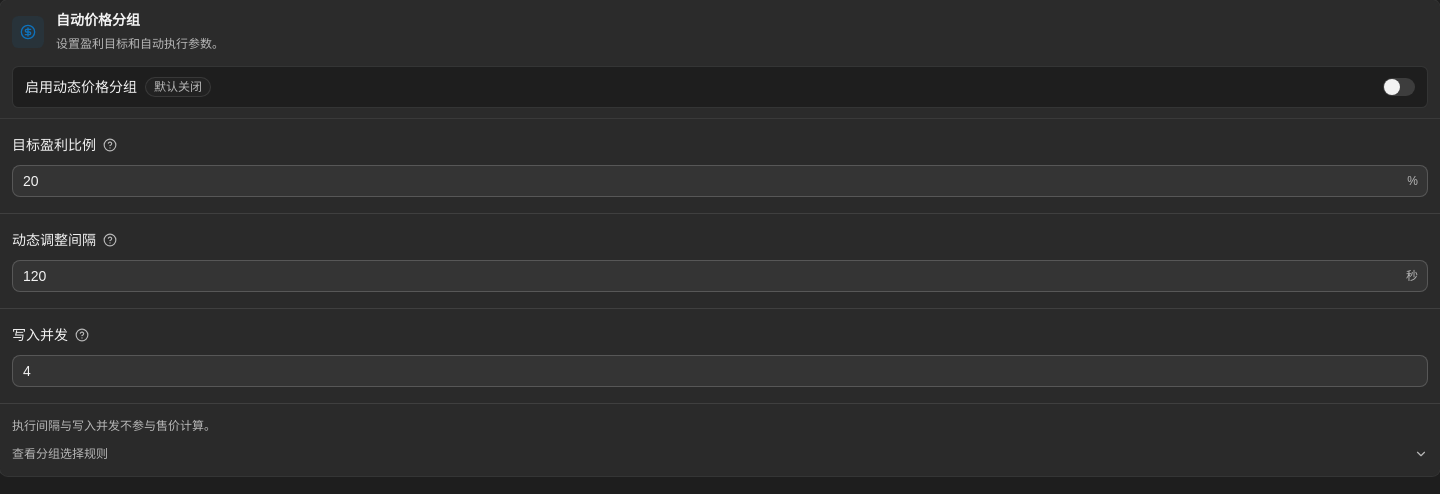
Test: 价格设置卡 › 数字参数清空后允许重新输入，切换自动调整不丢失参数
Step 1. Clear the number field labelled "目标盈利比例" → (720, 181), box [12,165,1428,197]
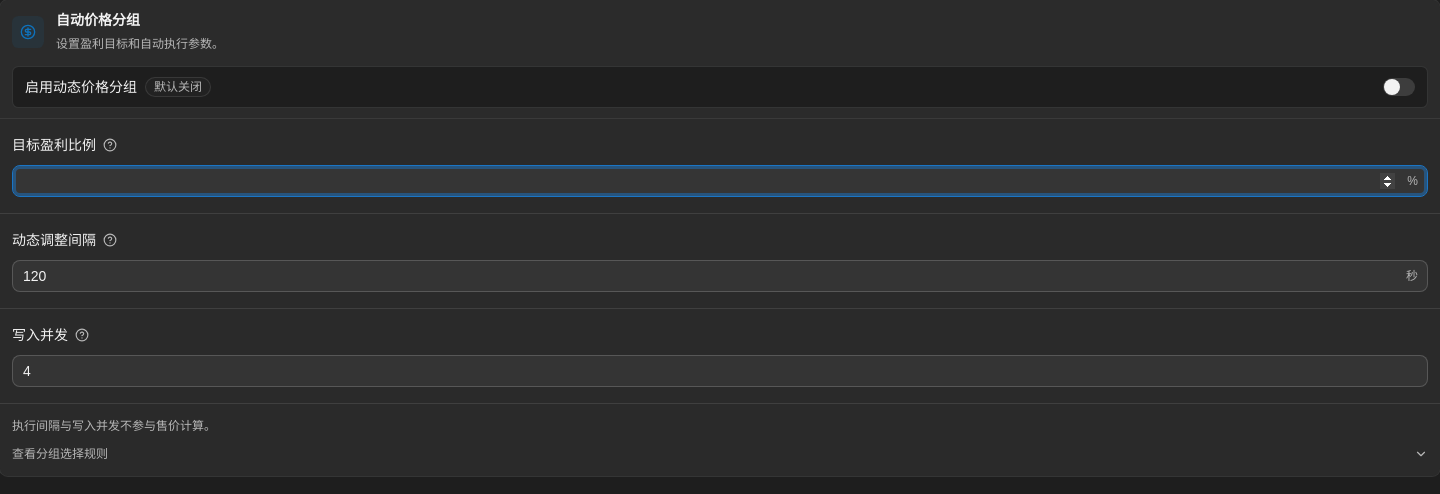
Step 2. Type "25" into the number field labelled "目标盈利比例" → (720, 181), box [12,165,1428,197]
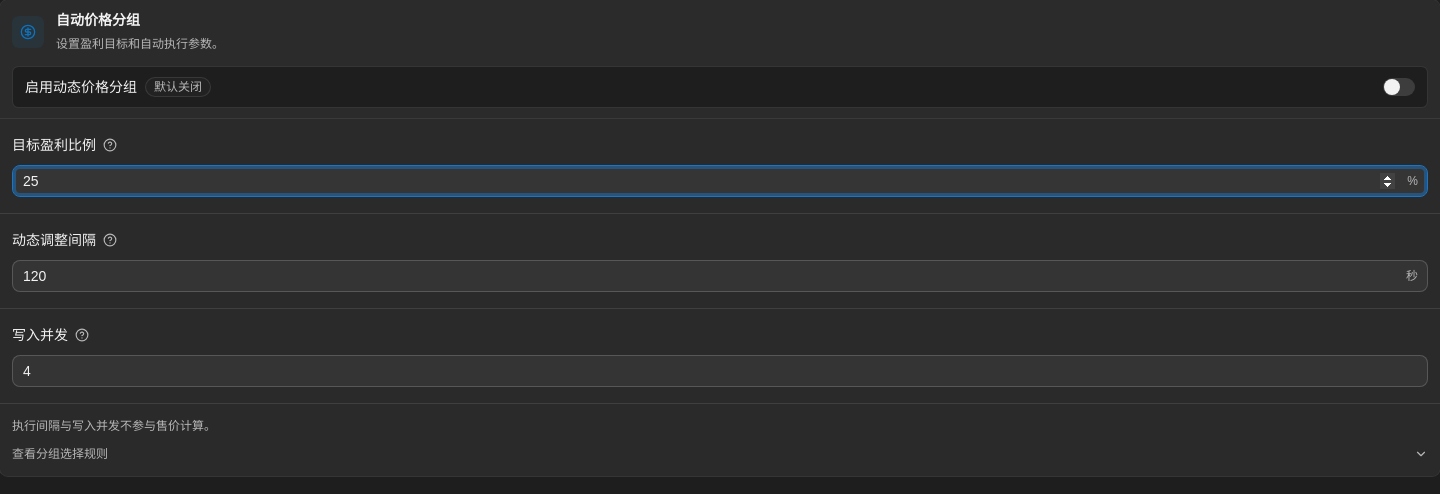
Step 3. Click the switch named "启用动态价格分组" → (1399, 87), box [1383,78,1415,96]
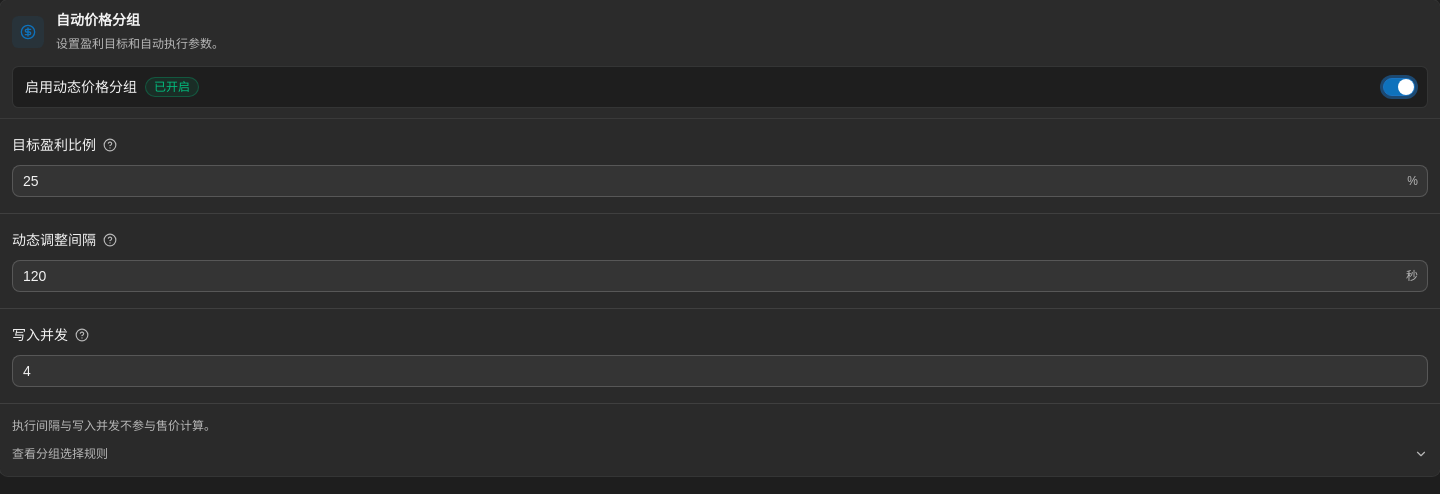
Check: the number field labelled "动态调整间隔" holds "120", box [12,260,1428,292]
Check: the text "已开启" is shown, box [154,79,190,95]
